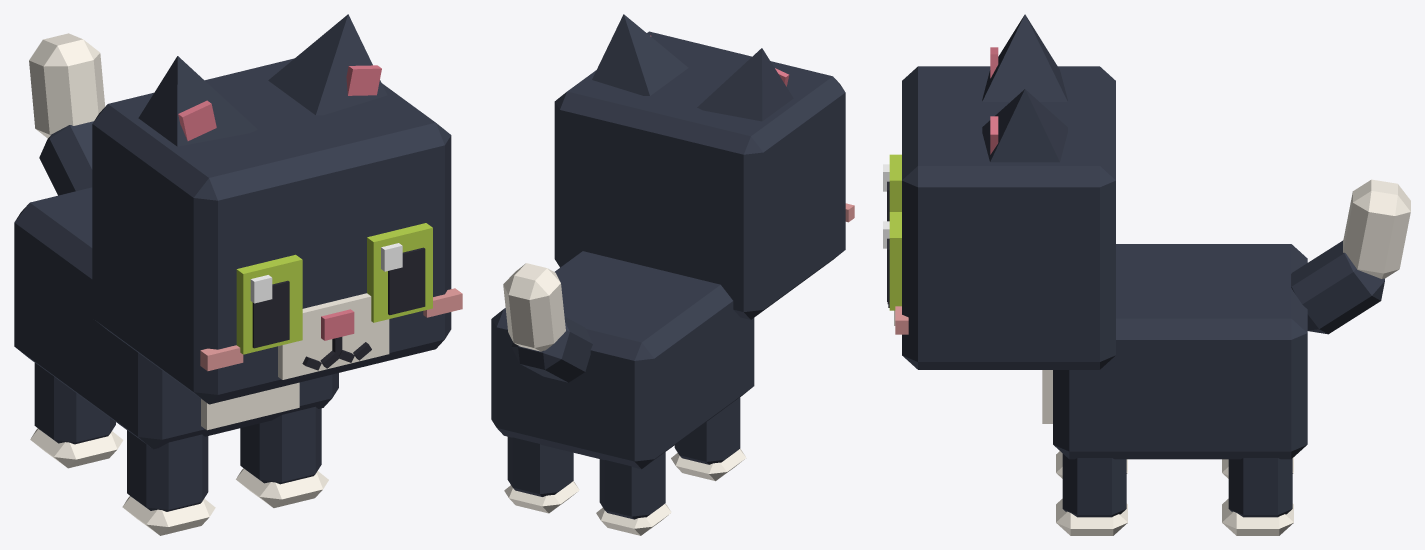
The model's file is CatCafe_Cat_Socks.glb.
The picture shows the model from 3 angles, left to right: view 1: azimuth 30°, elevation 25°; view 2: azimuth 150°, elevation 25°; view 3: azimuth 270°, elevation 25°; orthographic projection. The views are drawn at different scales.
Visible parts, largest first — view 1: CatCafe_Cat_Socks_Head, CatCafe_Cat_Socks_Body, CatCafe_Cat_Socks_Tail, CatCafe_Cat_Socks_LegF2, CatCafe_Cat_Socks_LegF1, CatCafe_Cat_Socks_EarL, CatCafe_Cat_Socks_Eye2, CatCafe_Cat_Socks_LegB2, CatCafe_Cat_Socks_Eye1, CatCafe_Cat_Socks_EarR; view 2: CatCafe_Cat_Socks_Head, CatCafe_Cat_Socks_Body, CatCafe_Cat_Socks_Tail, CatCafe_Cat_Socks_LegB2, CatCafe_Cat_Socks_EarL, CatCafe_Cat_Socks_LegB1, CatCafe_Cat_Socks_EarR, CatCafe_Cat_Socks_LegF2; view 3: CatCafe_Cat_Socks_Head, CatCafe_Cat_Socks_Body, CatCafe_Cat_Socks_Tail, CatCafe_Cat_Socks_LegF1, CatCafe_Cat_Socks_LegB1, CatCafe_Cat_Socks_EarL, CatCafe_Cat_Socks_EarR, CatCafe_Cat_Socks_Eye1, CatCafe_Cat_Socks_Eye2.
Part boxes in pixels (<box>): CatCafe_Cat_Socks_Head: <box>92,58,462,404</box>; CatCafe_Cat_Socks_Body: <box>14,187,338,449</box>; CatCafe_Cat_Socks_Tail: <box>29,33,105,195</box>; CatCafe_Cat_Socks_LegF2: <box>122,430,215,535</box>; CatCafe_Cat_Socks_LegF1: <box>236,406,328,507</box>; CatCafe_Cat_Socks_EarL: <box>268,14,387,115</box>; CatCafe_Cat_Socks_Eye2: <box>236,254,302,354</box>; CatCafe_Cat_Socks_LegB2: <box>30,362,123,468</box>; CatCafe_Cat_Socks_Eye1: <box>367,223,432,322</box>; CatCafe_Cat_Socks_EarR: <box>138,56,257,146</box>; CatCafe_Cat_Socks_Head: <box>554,31,854,319</box>; CatCafe_Cat_Socks_Body: <box>491,251,754,469</box>; CatCafe_Cat_Socks_Tail: <box>503,263,592,382</box>; CatCafe_Cat_Socks_LegB2: <box>596,452,671,535</box>; CatCafe_Cat_Socks_EarL: <box>592,14,688,95</box>; CatCafe_Cat_Socks_LegB1: <box>504,437,579,513</box>; CatCafe_Cat_Socks_EarR: <box>697,48,793,121</box>; CatCafe_Cat_Socks_LegF2: <box>671,397,746,481</box>; CatCafe_Cat_Socks_Head: <box>887,66,1115,369</box>; CatCafe_Cat_Socks_Body: <box>1042,244,1307,459</box>; CatCafe_Cat_Socks_Tail: <box>1291,179,1410,334</box>; CatCafe_Cat_Socks_LegF1: <box>1056,454,1127,535</box>; CatCafe_Cat_Socks_LegB1: <box>1222,458,1293,535</box>; CatCafe_Cat_Socks_EarL: <box>982,89,1067,162</box>; CatCafe_Cat_Socks_EarR: <box>982,14,1067,101</box>; CatCafe_Cat_Socks_Eye1: <box>883,212,901,310</box>; CatCafe_Cat_Socks_Eye2: <box>883,154,901,221</box>.
Bounding box in the file's own units: 1 × 1.86 × 1.97.
Materials: 1 (1 with a texture image).
